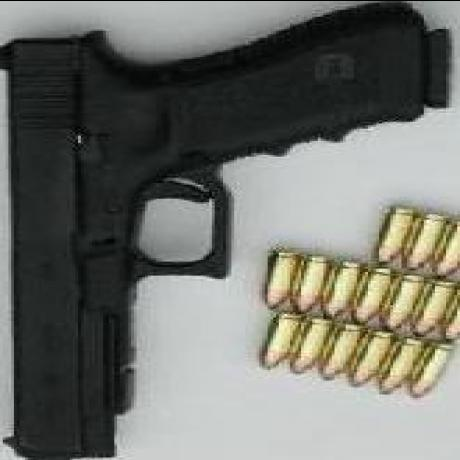weapon: (8, 3, 448, 460)
